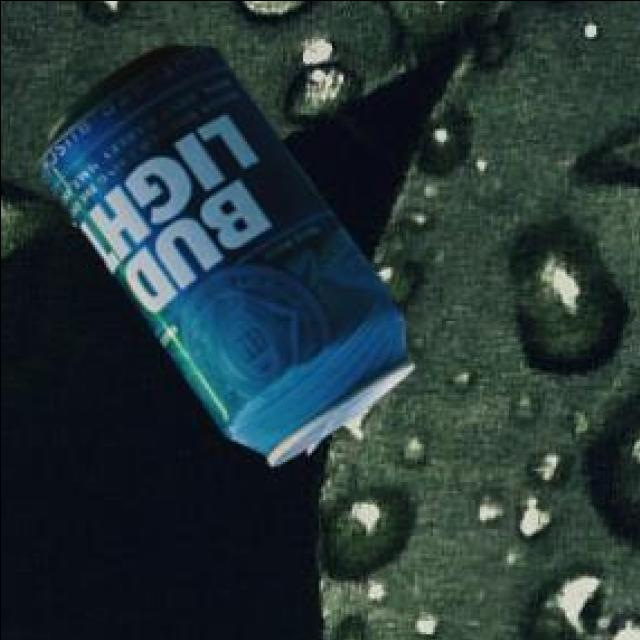logam: (37, 41, 408, 462)
